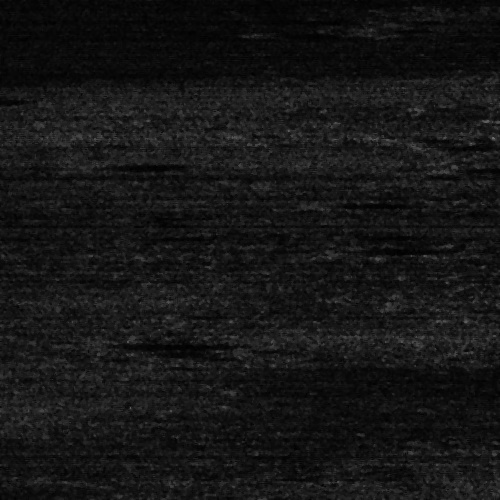object: (316, 243, 379, 252), (40, 339, 113, 346), (414, 165, 487, 170), (284, 201, 347, 206), (61, 162, 114, 167), (235, 30, 276, 35)
shadow: (77, 339, 191, 346), (348, 243, 432, 252), (88, 162, 185, 167), (316, 201, 397, 206), (256, 30, 335, 35), (450, 165, 500, 170)
